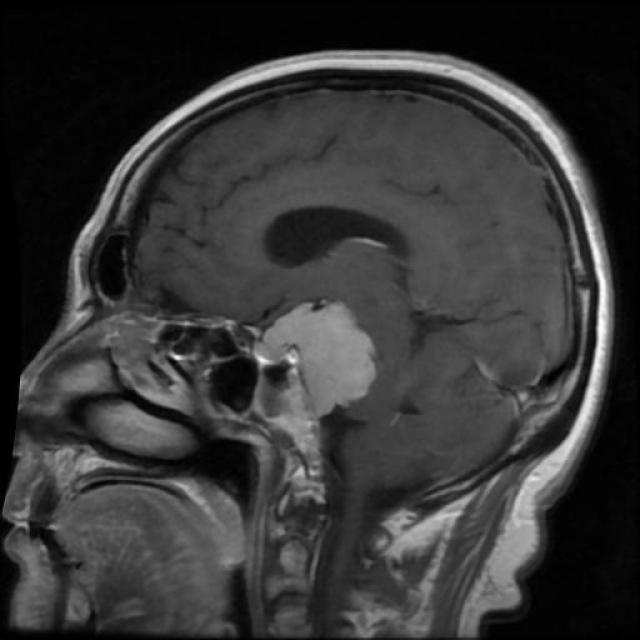meningioma: (265, 302, 378, 419)
